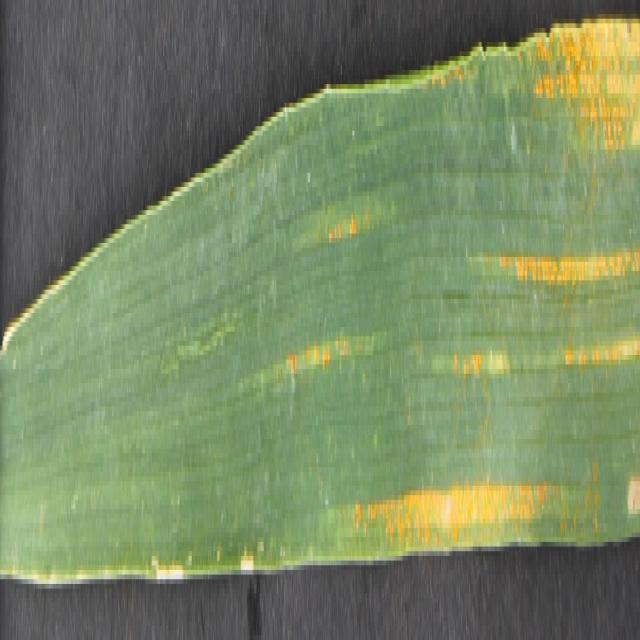leaf rust: (268, 19, 638, 626)
